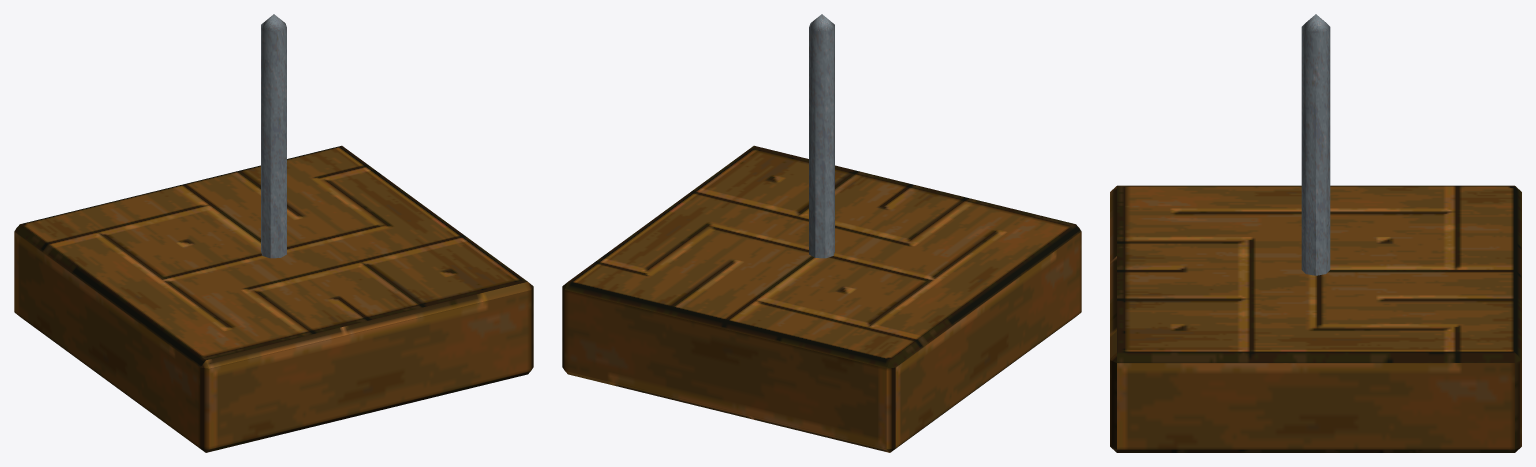
The model's file is MGBase.obj.
3 renders of one model, left to right at view 1: azimuth 30°, elevation 25°; view 2: azimuth 150°, elevation 25°; view 3: azimuth 270°, elevation 25°, orthographic. The views are drawn at different scales.
Parts seen in each view (by area): view 1: MGBase; view 2: MGBase; view 3: MGBase.
Boxes of the visible parts, <box> form: MGBase: <box>14,14,533,452</box>; MGBase: <box>562,14,1081,452</box>; MGBase: <box>1110,14,1521,452</box>.
Size of the model in its own units: 16 by 15.21 by 16.
1 material, 1 textured.
